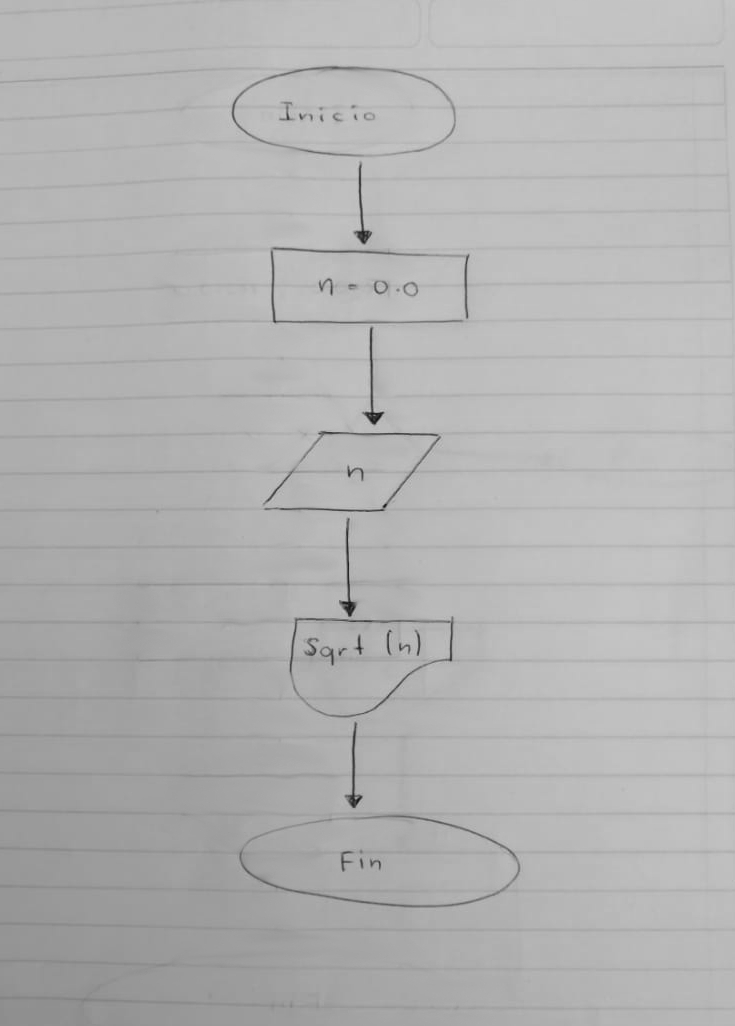arrow_line_down: (358, 325, 390, 428), (334, 516, 363, 618), (341, 719, 366, 817), (347, 156, 373, 247)
print: (280, 613, 462, 719)
process: (264, 241, 476, 330)
scan: (258, 428, 444, 516)
start_end: (235, 810, 527, 913), (227, 61, 464, 160)
